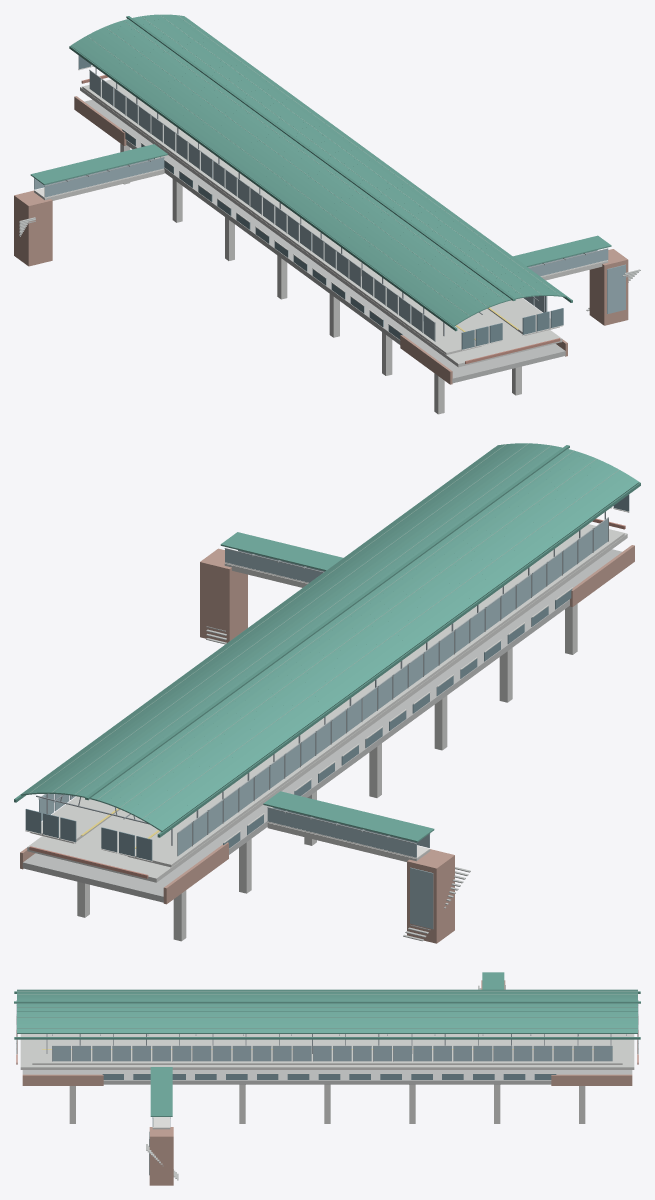
The picture shows the model from 3 angles, top to bottom: view 1: azimuth 30°, elevation 25°; view 2: azimuth 150°, elevation 25°; view 3: azimuth 270°, elevation 25°; orthographic projection. The views are drawn at different scales.
Parts seen in each view (by area): view 1: MRT6 station 4 concept geometry; view 2: MRT6 station 4 concept geometry; view 3: MRT6 station 4 concept geometry.
Boxes of the visible parts, x1,y1,x2,y2 form: MRT6 station 4 concept geometry: (14, 14, 640, 414); MRT6 station 4 concept geometry: (14, 443, 640, 943); MRT6 station 4 concept geometry: (14, 972, 640, 1185).
Size of the model in its own units: 101 by 30.19 by 162.
